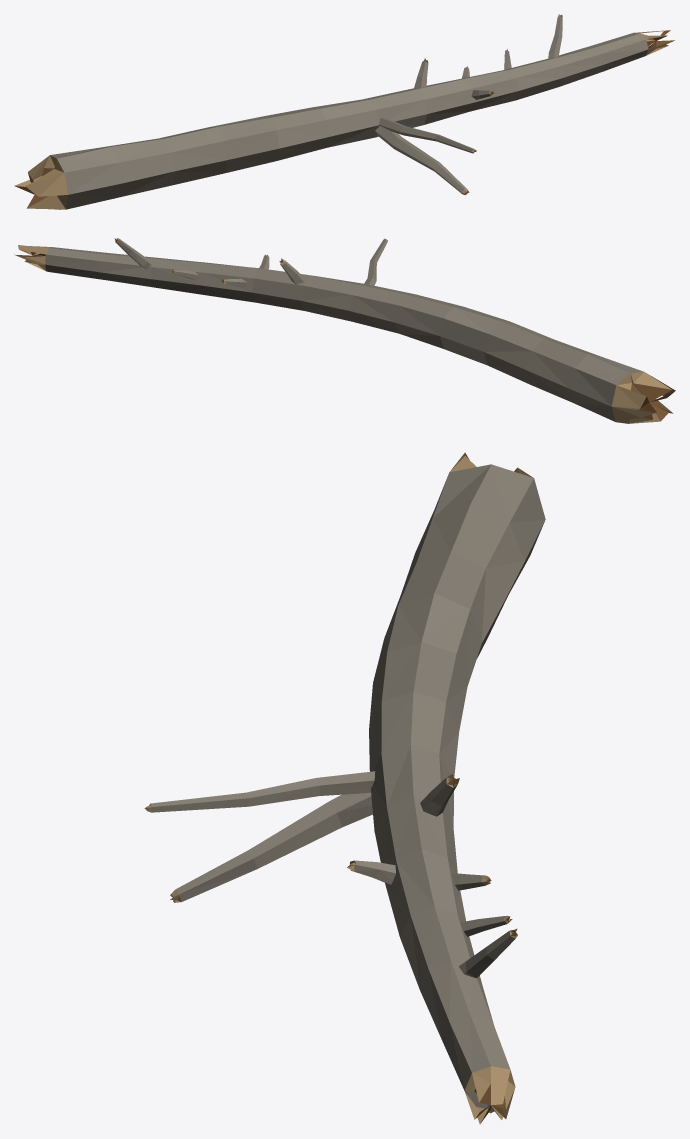
The model's file is driftwood-2.glb.
3 views of the same model, one above another, from view 1: azimuth 30°, elevation 25°; view 2: azimuth 150°, elevation 25°; view 3: azimuth 270°, elevation 25° (orthographic). The views are drawn at different scales.
Visible parts, largest first — view 1: driftwood; view 2: driftwood; view 3: driftwood.
Boxes of the visible parts, bbox=[...] form: driftwood: bbox=[14, 14, 674, 209]; driftwood: bbox=[14, 238, 675, 423]; driftwood: bbox=[144, 452, 545, 1123].
Size of the model in its own units: 4.94 by 0.572 by 1.32.
